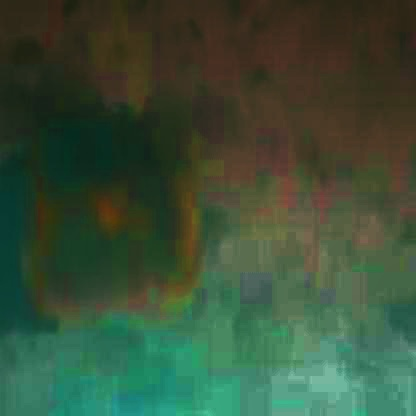misc: (21, 94, 201, 350)
